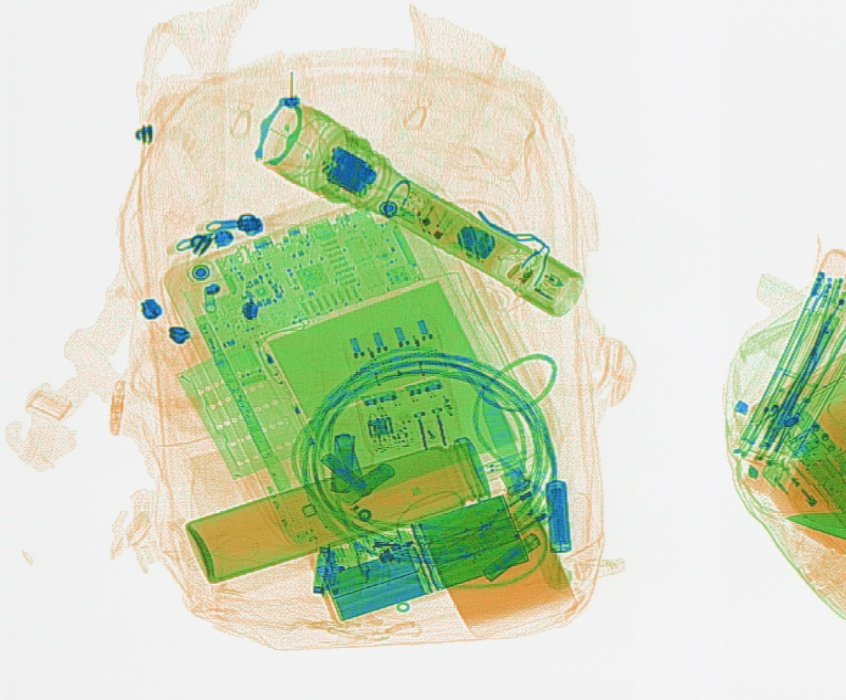lighter: (759, 455, 842, 535)
powerbank: (309, 487, 534, 626)
